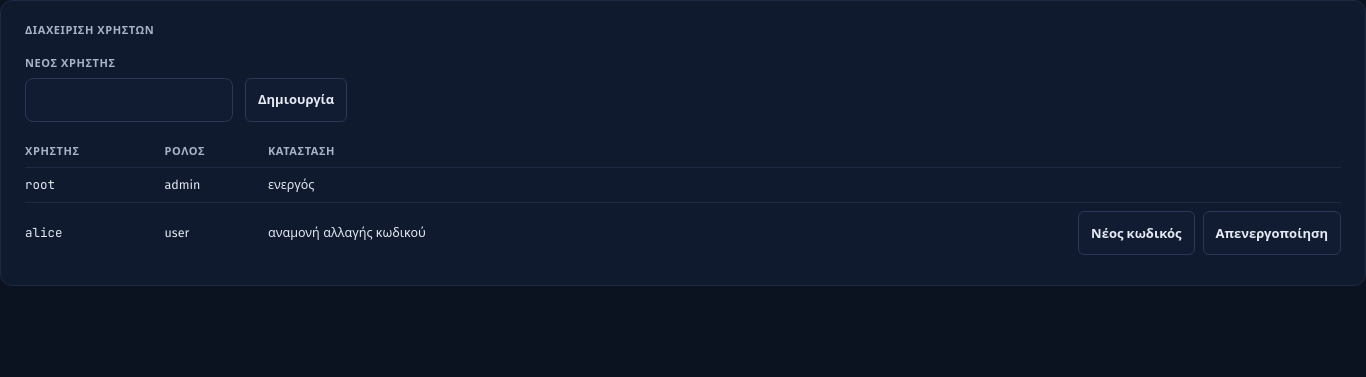
Test: UserAdminPanel › creates a user and shows the temporary password once
Type "carol" into the field named "Νέο όνομα χρήστη". click: (129, 100)
box: [25,78,233,122]
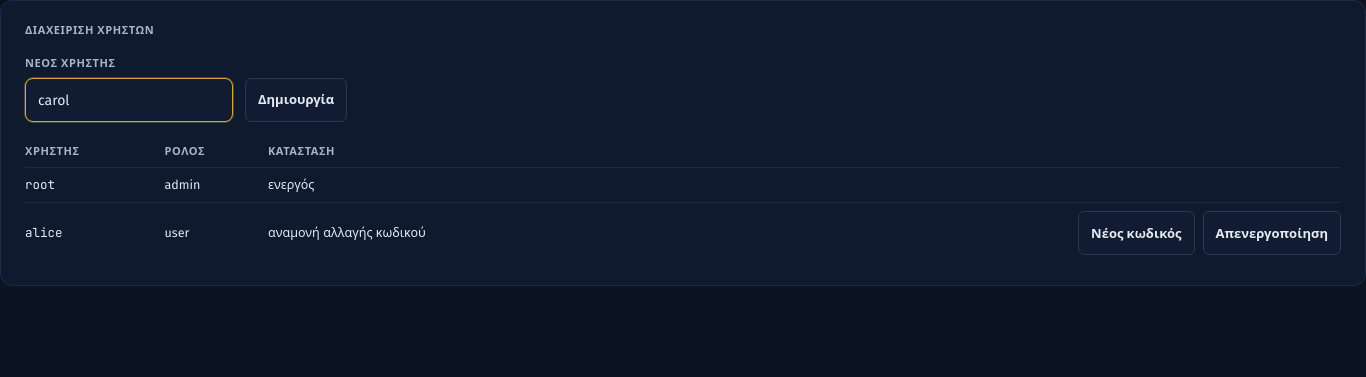
Click the button "Δημιουργία". click: (296, 100)
box: [245,78,347,122]
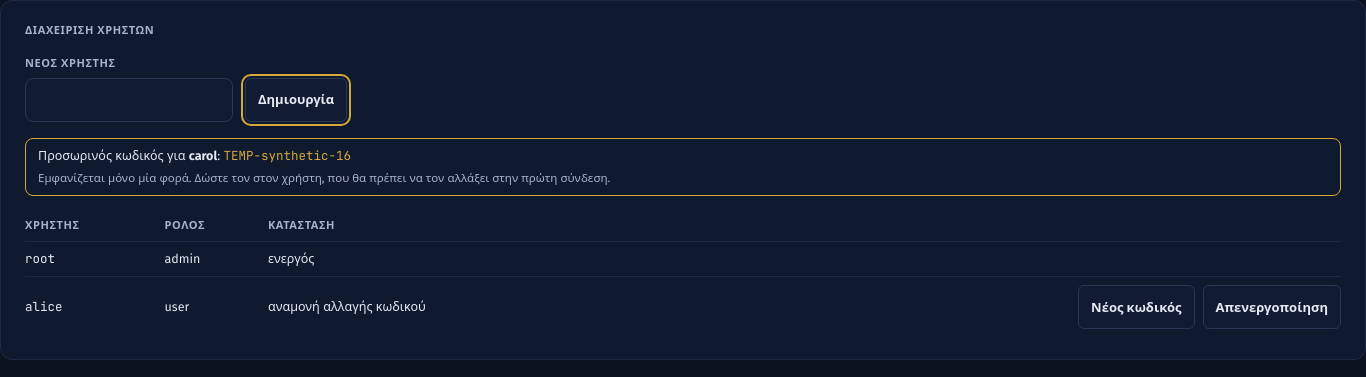
Expected: the message shows "TEMP-synthetic-16", [224,147,351,164]
Η επόμενη ενέργεια σβήνει τον προηγούμενο προσωρινό κωδικό από την οθόνη.
Click the button with aria-label "Νέος προσωρινός κωδικός για alice". click: (1136, 307)
box: [1078,285,1194,329]
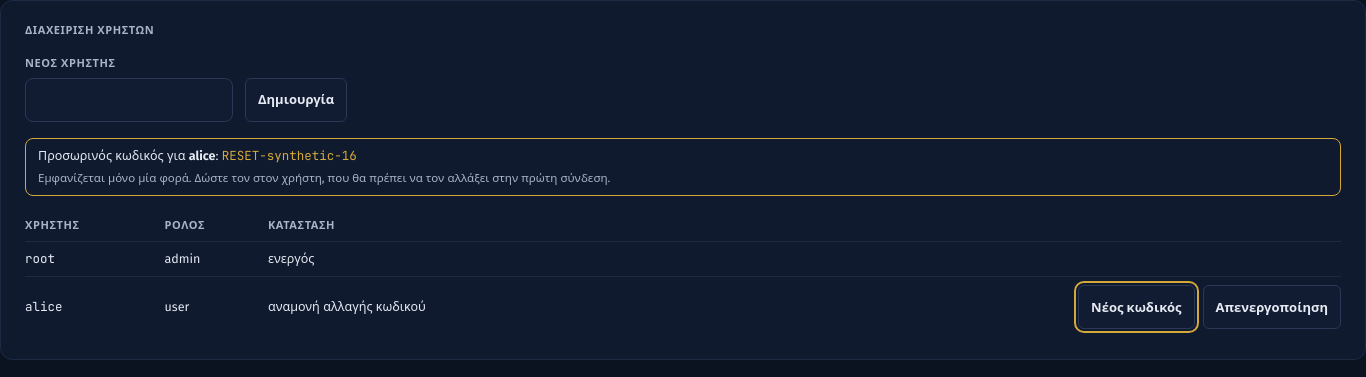
Expected: the message shows "RESET-synthetic-16", [222,147,357,164]
Expected: the text "TEMP-synthetic-16" is gone
